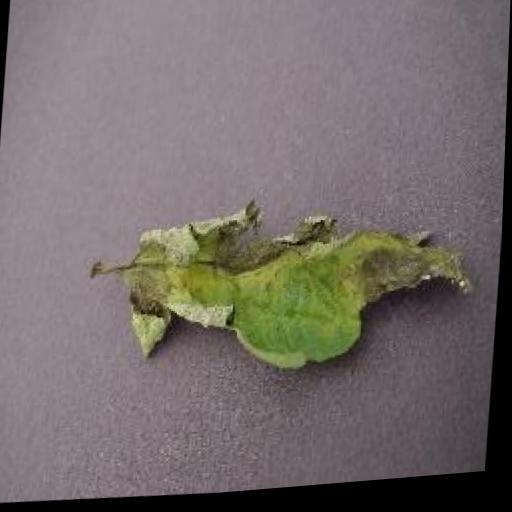Late Blight: (120, 187, 482, 394)
